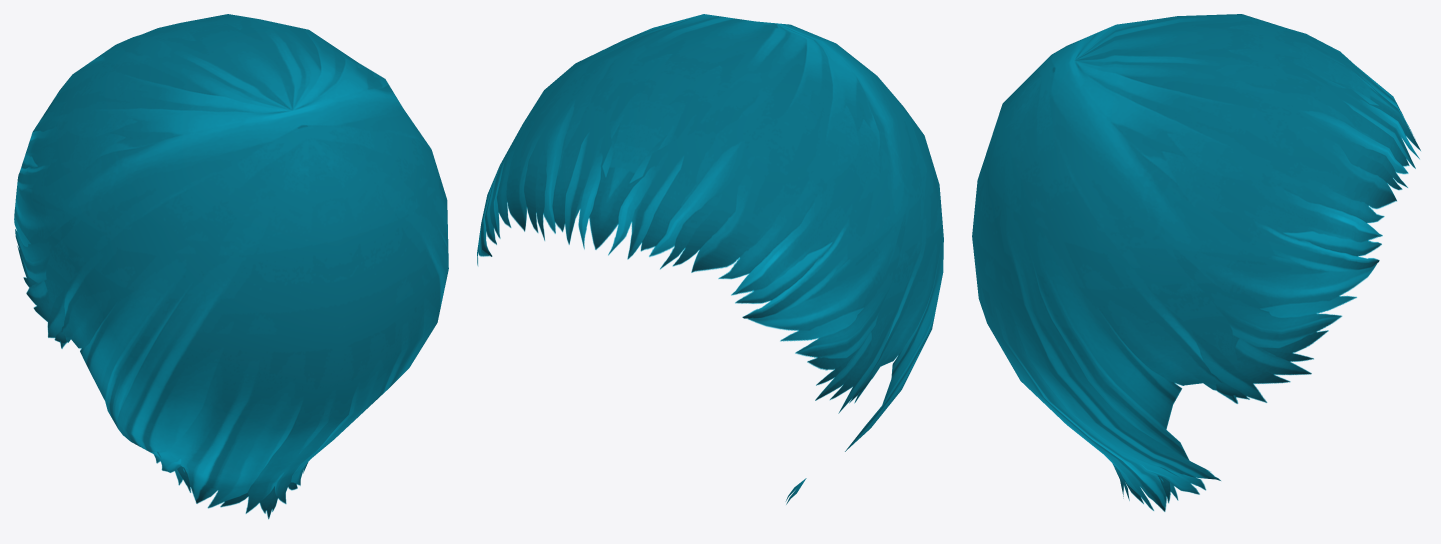
File: original-head-local.glb
3 views of the same model, side by side, from view 1: azimuth 30°, elevation 25°; view 2: azimuth 150°, elevation 25°; view 3: azimuth 270°, elevation 25° (orthographic). The views are drawn at different scales.
Parts seen in each view (by area): view 1: original-head-local; view 2: original-head-local; view 3: original-head-local.
Boxes of the visible parts, x1=… form: original-head-local: x1=14, y1=14, x2=448, y2=519; original-head-local: x1=477, y1=14, x2=943, y2=504; original-head-local: x1=972, y1=14, x2=1420, y2=511.
Bounding box in the file's own units: 0.1952 × 0.2428 × 0.2118.
1 material, 1 textured.
